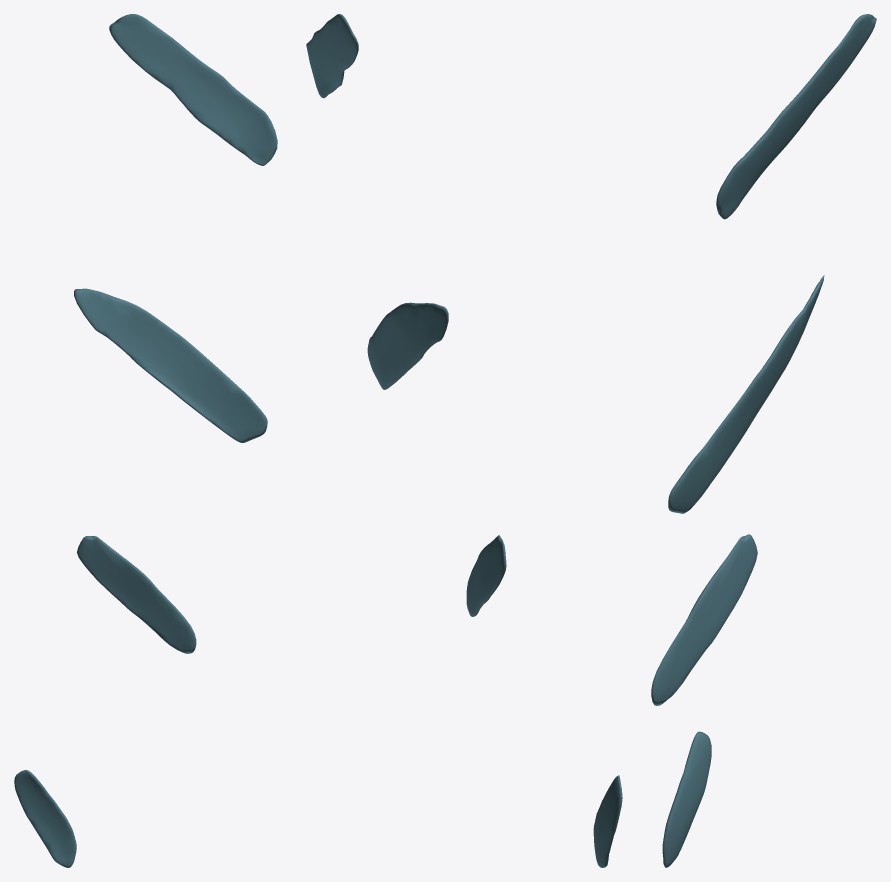
The model's file is Serratus_posterior_inferior_muscle-Thoracic_insertions.l_Genera.glb.
3 views of the same model, side by side, from view 1: azimuth 30°, elevation 25°; view 2: azimuth 150°, elevation 25°; view 3: azimuth 270°, elevation 25° (orthographic). The views are drawn at different scales.
Parts seen in each view (by area): view 1: Serratus_posterior_inferior_muscle-Thoracic_insertions.l_Gen; view 2: Serratus_posterior_inferior_muscle-Thoracic_insertions.l_Gen; view 3: Serratus_posterior_inferior_muscle-Thoracic_insertions.l_Gen.
Boxes of the visible parts, x1,y1,x2,y2 form: Serratus_posterior_inferior_muscle-Thoracic_insertions.l_Gen: [14, 14, 277, 867]; Serratus_posterior_inferior_muscle-Thoracic_insertions.l_Gen: [306, 14, 622, 867]; Serratus_posterior_inferior_muscle-Thoracic_insertions.l_Gen: [651, 14, 876, 867].
Bounding box in the file's own units: 0.0427 × 0.1166 × 0.0254.
